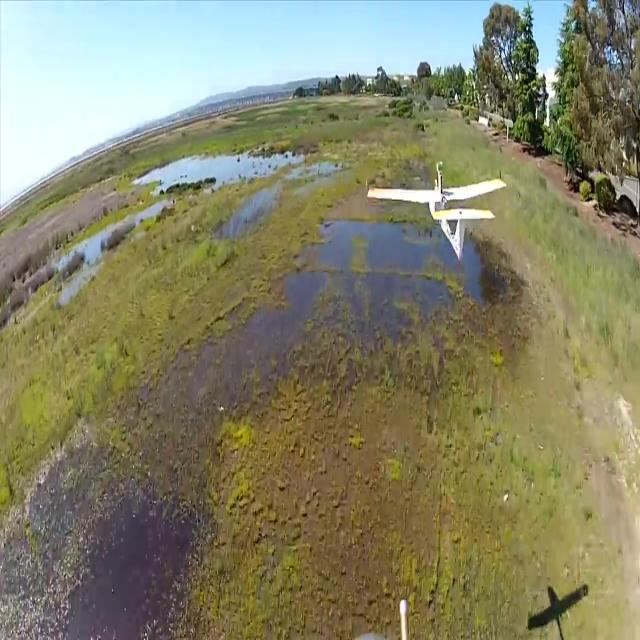iha: (365, 192, 508, 229)
